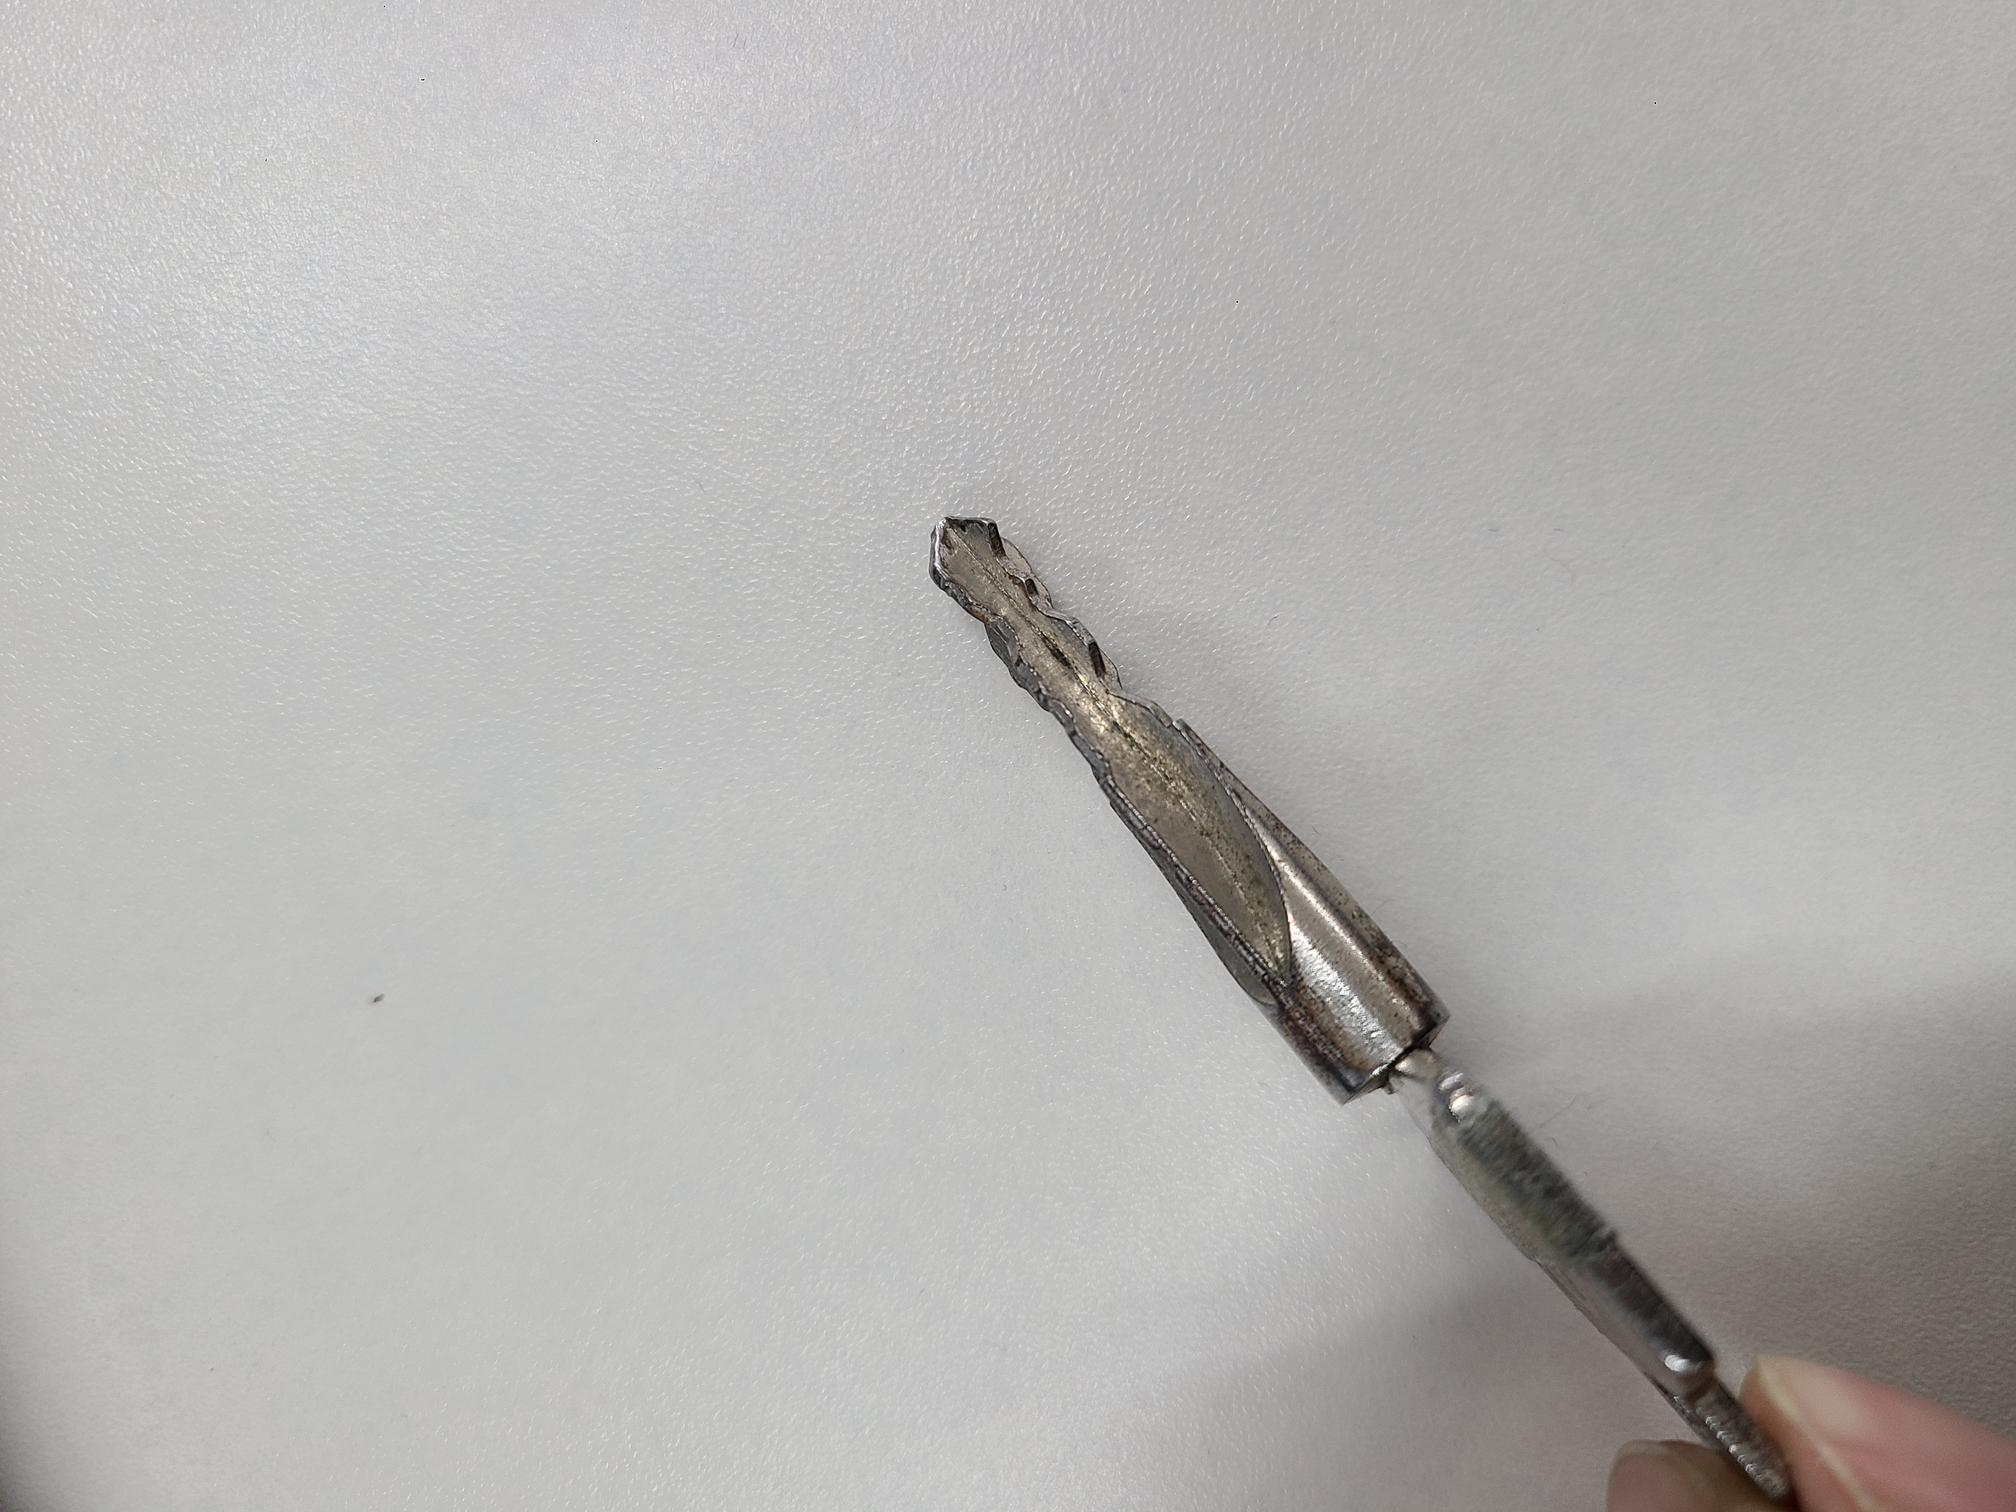key: (929, 507, 1994, 1512)
